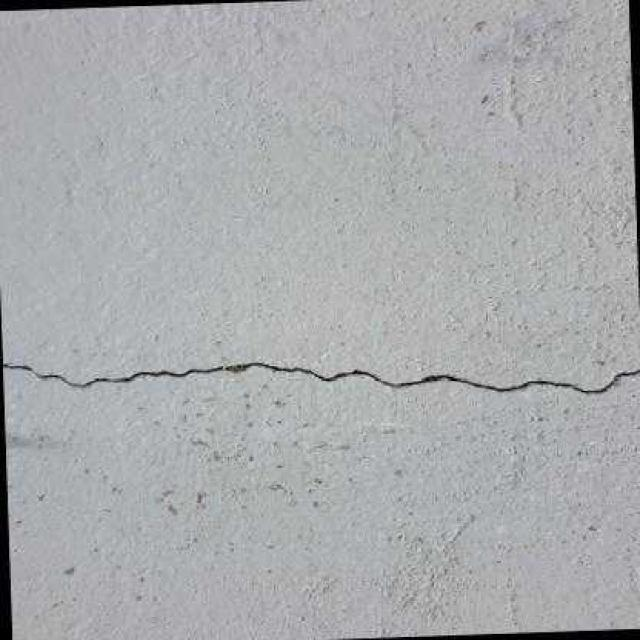D00: (1, 361, 640, 393)
